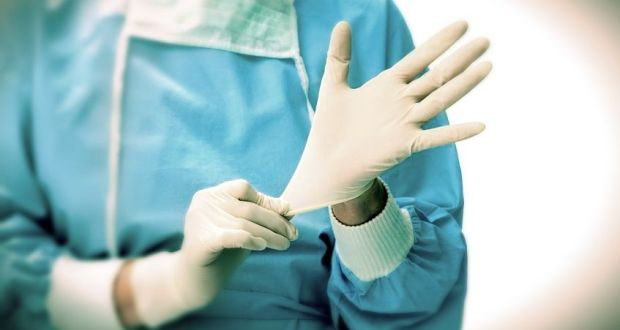glove: (301, 17, 496, 209), (173, 176, 295, 309)
